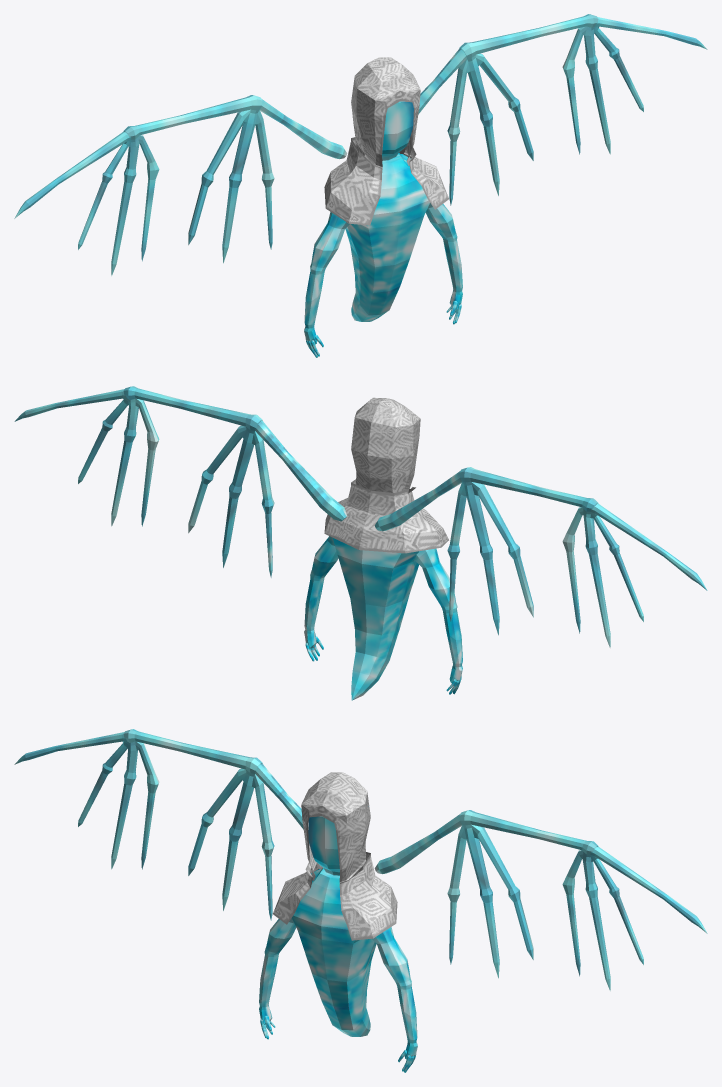
Rendered from sylph.obj.
3 renders of one model, top to bottom at view 1: azimuth 30°, elevation 25°; view 2: azimuth 150°, elevation 25°; view 3: azimuth 330°, elevation 25°, orthographic.
Parts seen in each view (by area): view 1: Body, WingRight02, WingLeft02, HoodHead, HoodCollar, WingRight03, WingLeft03, ArmRight, ArmLeft, Head, WingRight01, WingLeft01; view 2: Body, HoodHead, WingRight02, HoodCollar, WingLeft02, WingRight03, WingLeft03, ArmRight, WingLeft01, ArmLeft, WingRight01; view 3: Body, WingLeft02, WingRight02, HoodHead, HoodCollar, WingLeft03, WingRight03, ArmLeft, ArmRight, Head, WingLeft01, WingRight01.
Boxes of the visible parts, box(x1,y1,x2,y2) form: Body: box(345, 153, 429, 321); WingRight02: box(123, 95, 274, 263); WingLeft02: box(447, 14, 598, 205); HoodHead: box(351, 57, 420, 169); HoodCollar: box(324, 137, 448, 225); WingRight03: box(14, 131, 159, 275); WingLeft03: box(562, 17, 707, 154); ArmRight: box(304, 212, 349, 344); ArmLeft: box(425, 203, 462, 309); Head: box(382, 101, 413, 160); WingRight01: box(260, 99, 347, 159); WingLeft01: box(418, 49, 466, 114); Body: box(333, 538, 418, 700); HoodHead: box(351, 397, 420, 492); WingRight02: box(447, 467, 597, 635); HoodCollar: box(324, 479, 448, 553); WingLeft02: box(123, 386, 274, 577); WingRight03: box(562, 503, 707, 647); WingLeft03: box(14, 389, 159, 526); ArmRight: box(414, 548, 462, 682); WingLeft01: box(255, 420, 346, 521); ArmLeft: box(304, 536, 338, 648); WingRight01: box(374, 471, 461, 531); Body: box(292, 868, 376, 1036); WingLeft02: box(447, 810, 598, 978); WingRight02: box(123, 729, 274, 920); HoodHead: box(301, 772, 370, 883); HoodCollar: box(273, 852, 397, 940); WingLeft03: box(562, 846, 707, 990); WingRight03: box(14, 732, 159, 869); ArmLeft: box(372, 927, 417, 1059); ArmRight: box(259, 918, 296, 1024); Head: box(308, 806, 368, 875); WingLeft01: box(374, 814, 461, 874); WingRight01: box(255, 764, 303, 829).
Bounding box in the file's own units: 5.29 × 2.03 × 0.6732.
